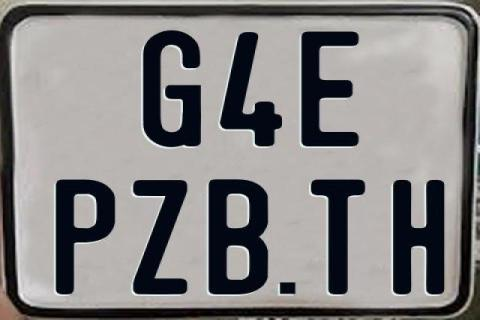0: (220, 31, 284, 145)
B: (206, 178, 266, 296)
E: (298, 29, 362, 148)
G: (143, 29, 207, 147)
H: (392, 178, 446, 294)
P: (56, 180, 115, 300)
T: (310, 178, 370, 298)
Z: (130, 179, 189, 299)
